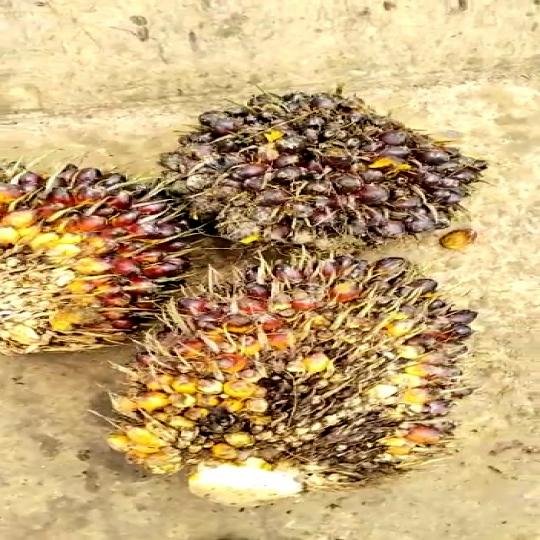kurang masak: (117, 244, 476, 524), (145, 83, 475, 267), (0, 147, 215, 371)
